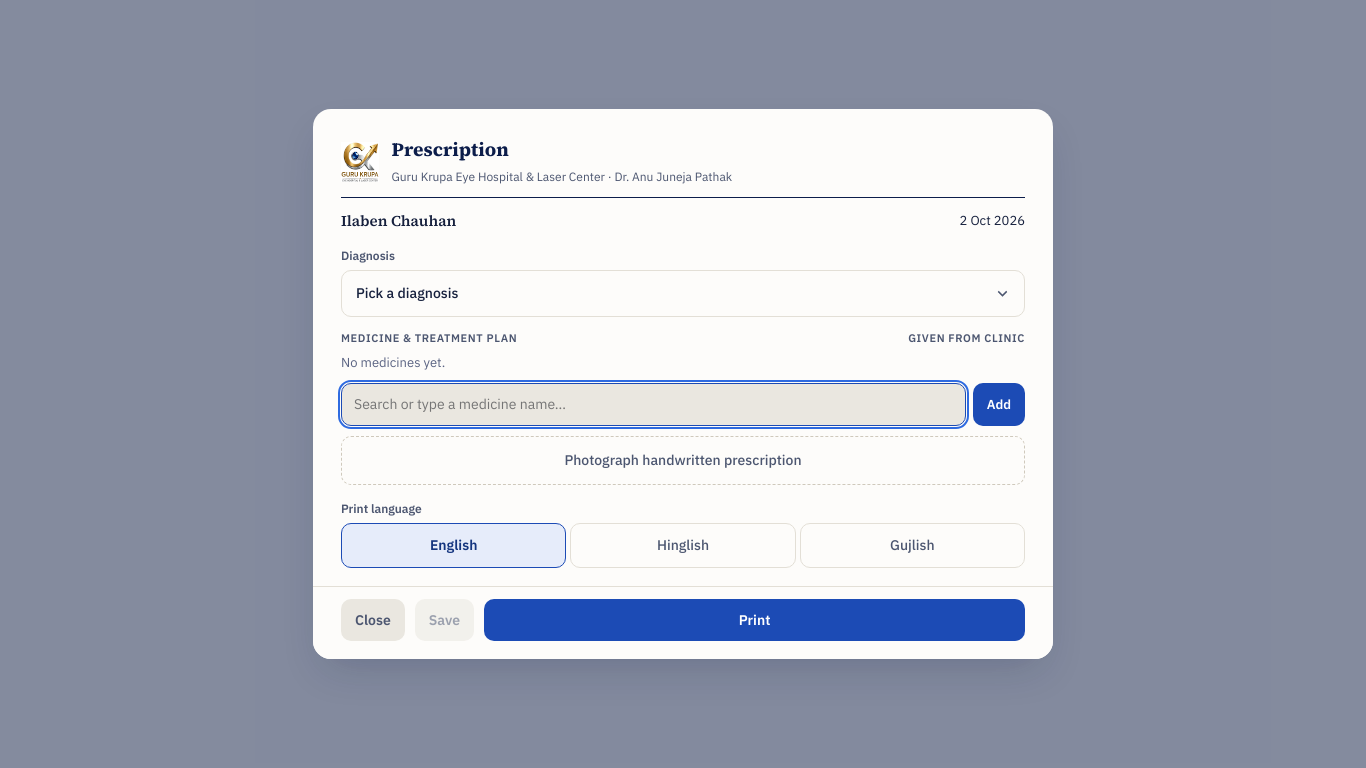
Medicine picker & brand/composition (F12) › picker shows the medicine name only and a picked line is "From our medicine list"
Type "aquaray" into the dropdown labelled "medicine name".
click(653, 404); type("aquaray")  # box [341,383,966,426]
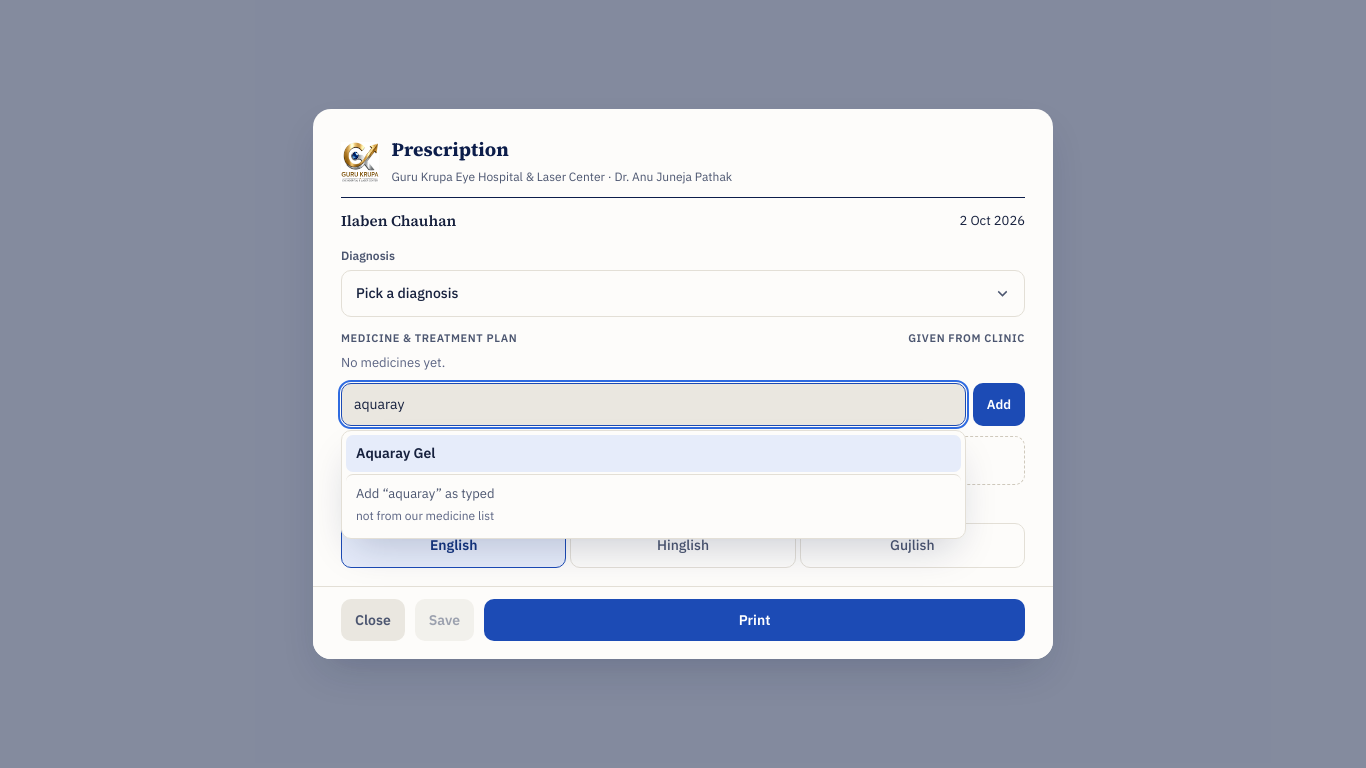
Now the option with test id "med-option" is shown
Click the option with test id "med-option".
click(396, 453)  # box [346,435,961,472]
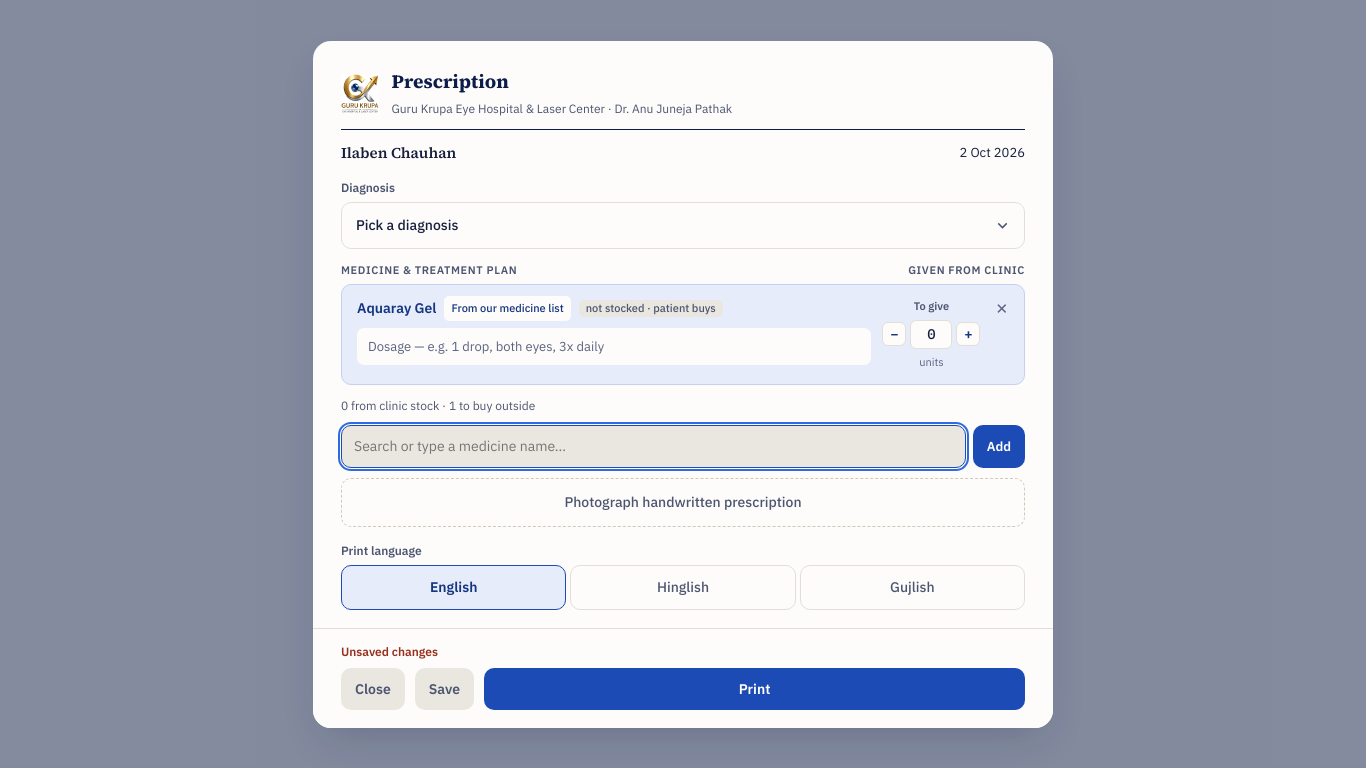
Now the text "From our medicine list" is shown, box [444,296,571,320]
Now the text "Aquaray Gel" is shown, box [357,298,436,316]
Type "mosi lp" into the dropdown labelled "medicine name".
click(653, 446); type("mosi lp")  # box [341,424,966,468]
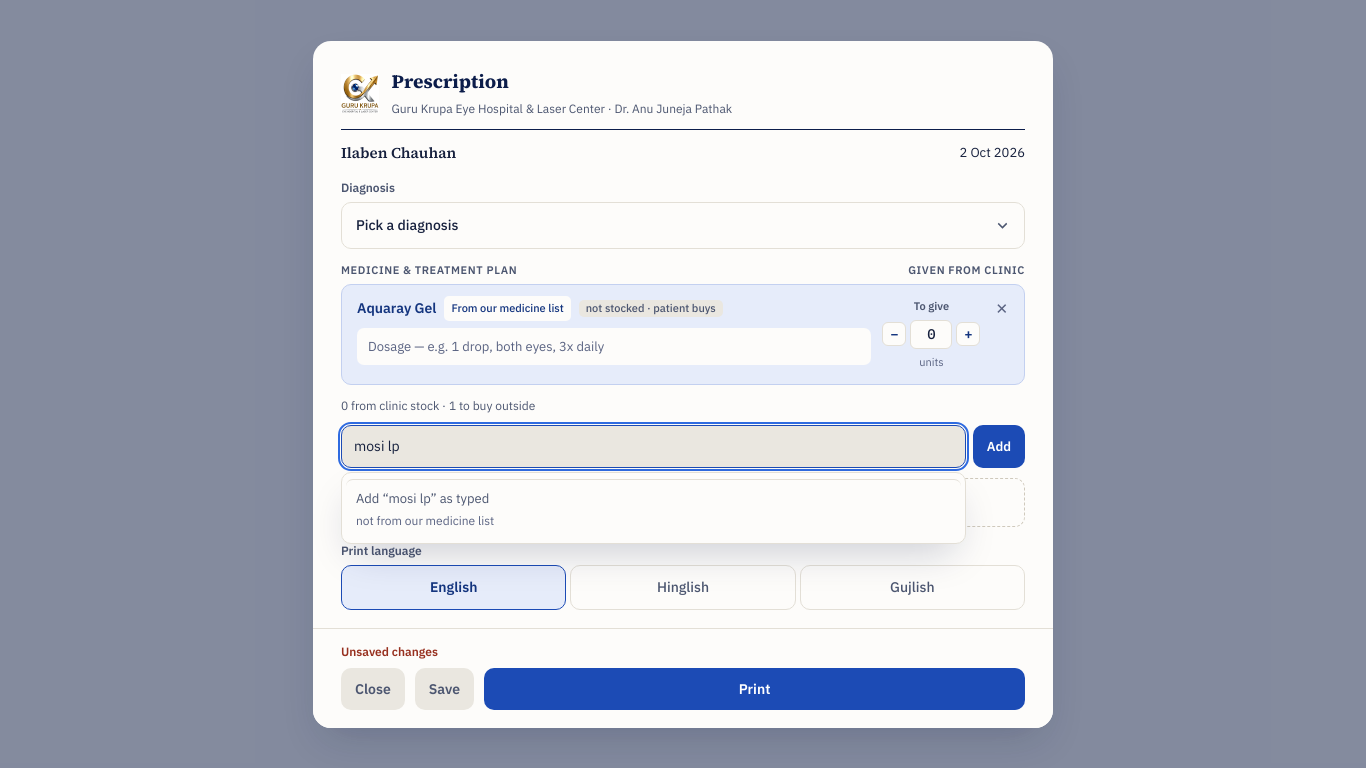
Click the button "Add".
click(999, 446)  # box [973,424,1025,468]
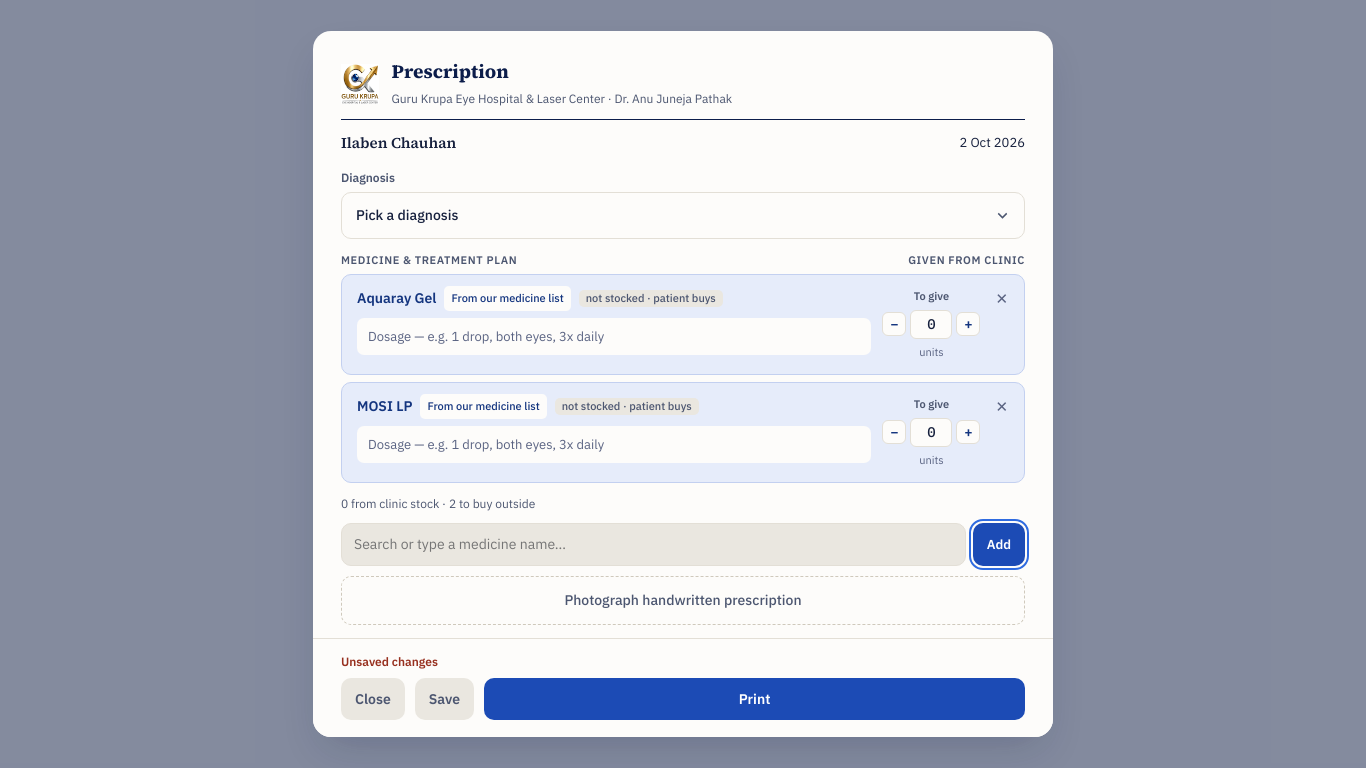
Now the text "From our medicine list" next to "MOSI LP" is shown, box [427,399,540,413]
Now the text "MOSI LP" is shown, box [357,397,412,415]
